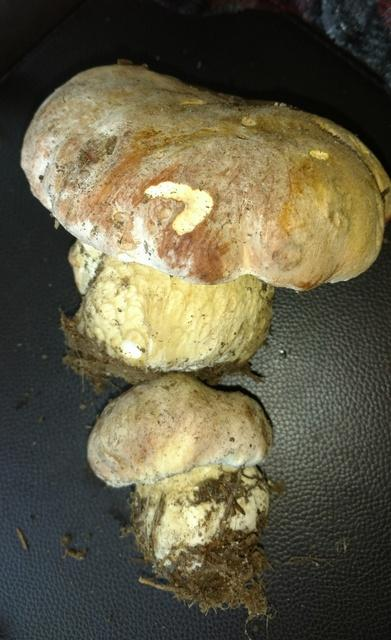Edible Mushroom: (24, 58, 391, 375), (85, 371, 275, 620)
